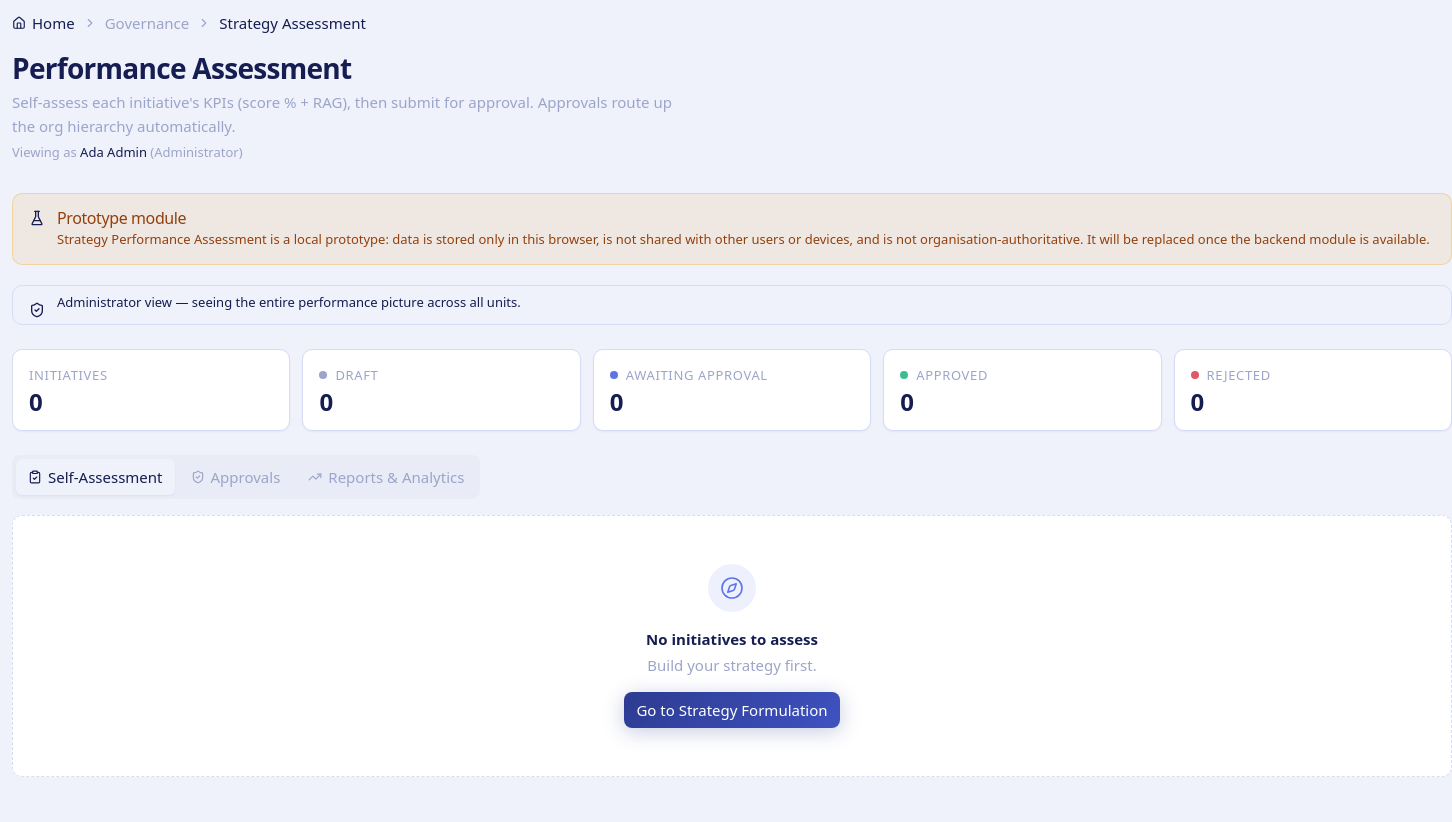
Test: StrategyAssessment › explains an empty approvals queue
Press the mouse on the tab "Approvals": {"x": 235, "y": 477} [178,459,292,495]
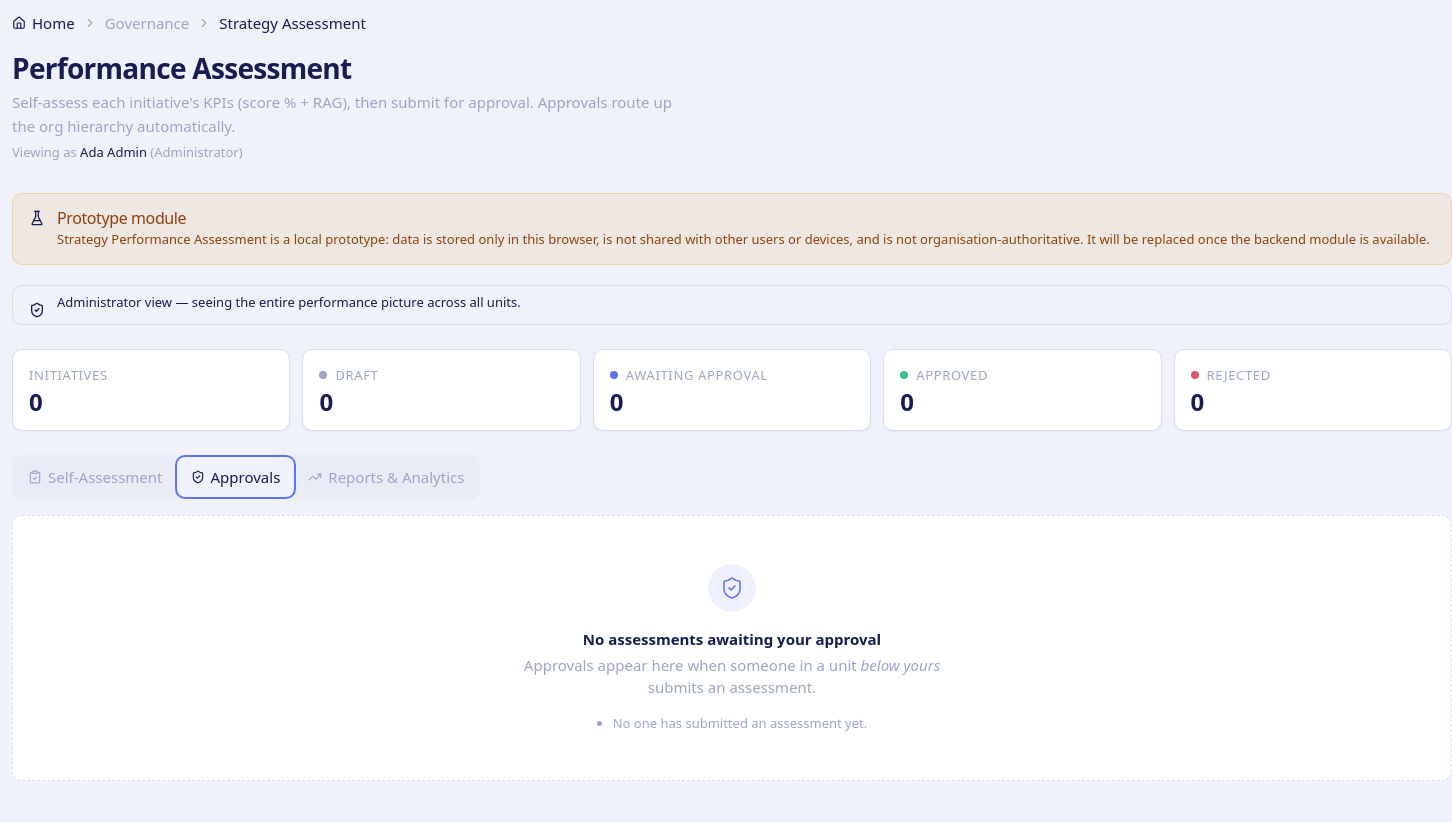
expect the text "No assessments awaiting your approval" is shown: met, box [583,628,881,650]
expect the list item "No one has submitted an assessment yet." is shown: met, box [613,714,867,732]
